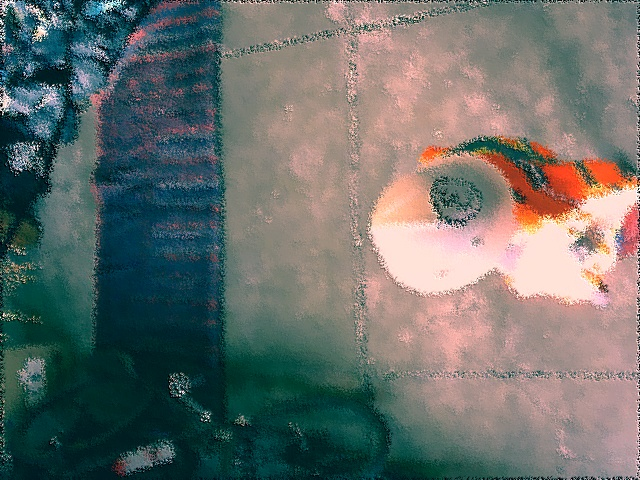three: (429, 178, 479, 226)
